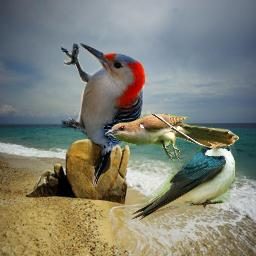Cuckoo: (105, 114, 240, 161)
Swallow: (129, 136, 237, 221)
Woodpecker: (61, 43, 145, 187)
